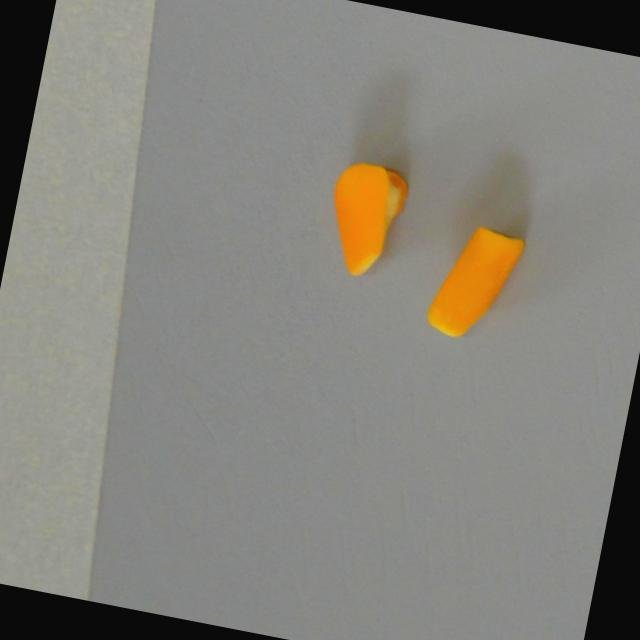estandar: (424, 217, 527, 347), (318, 155, 412, 280)
